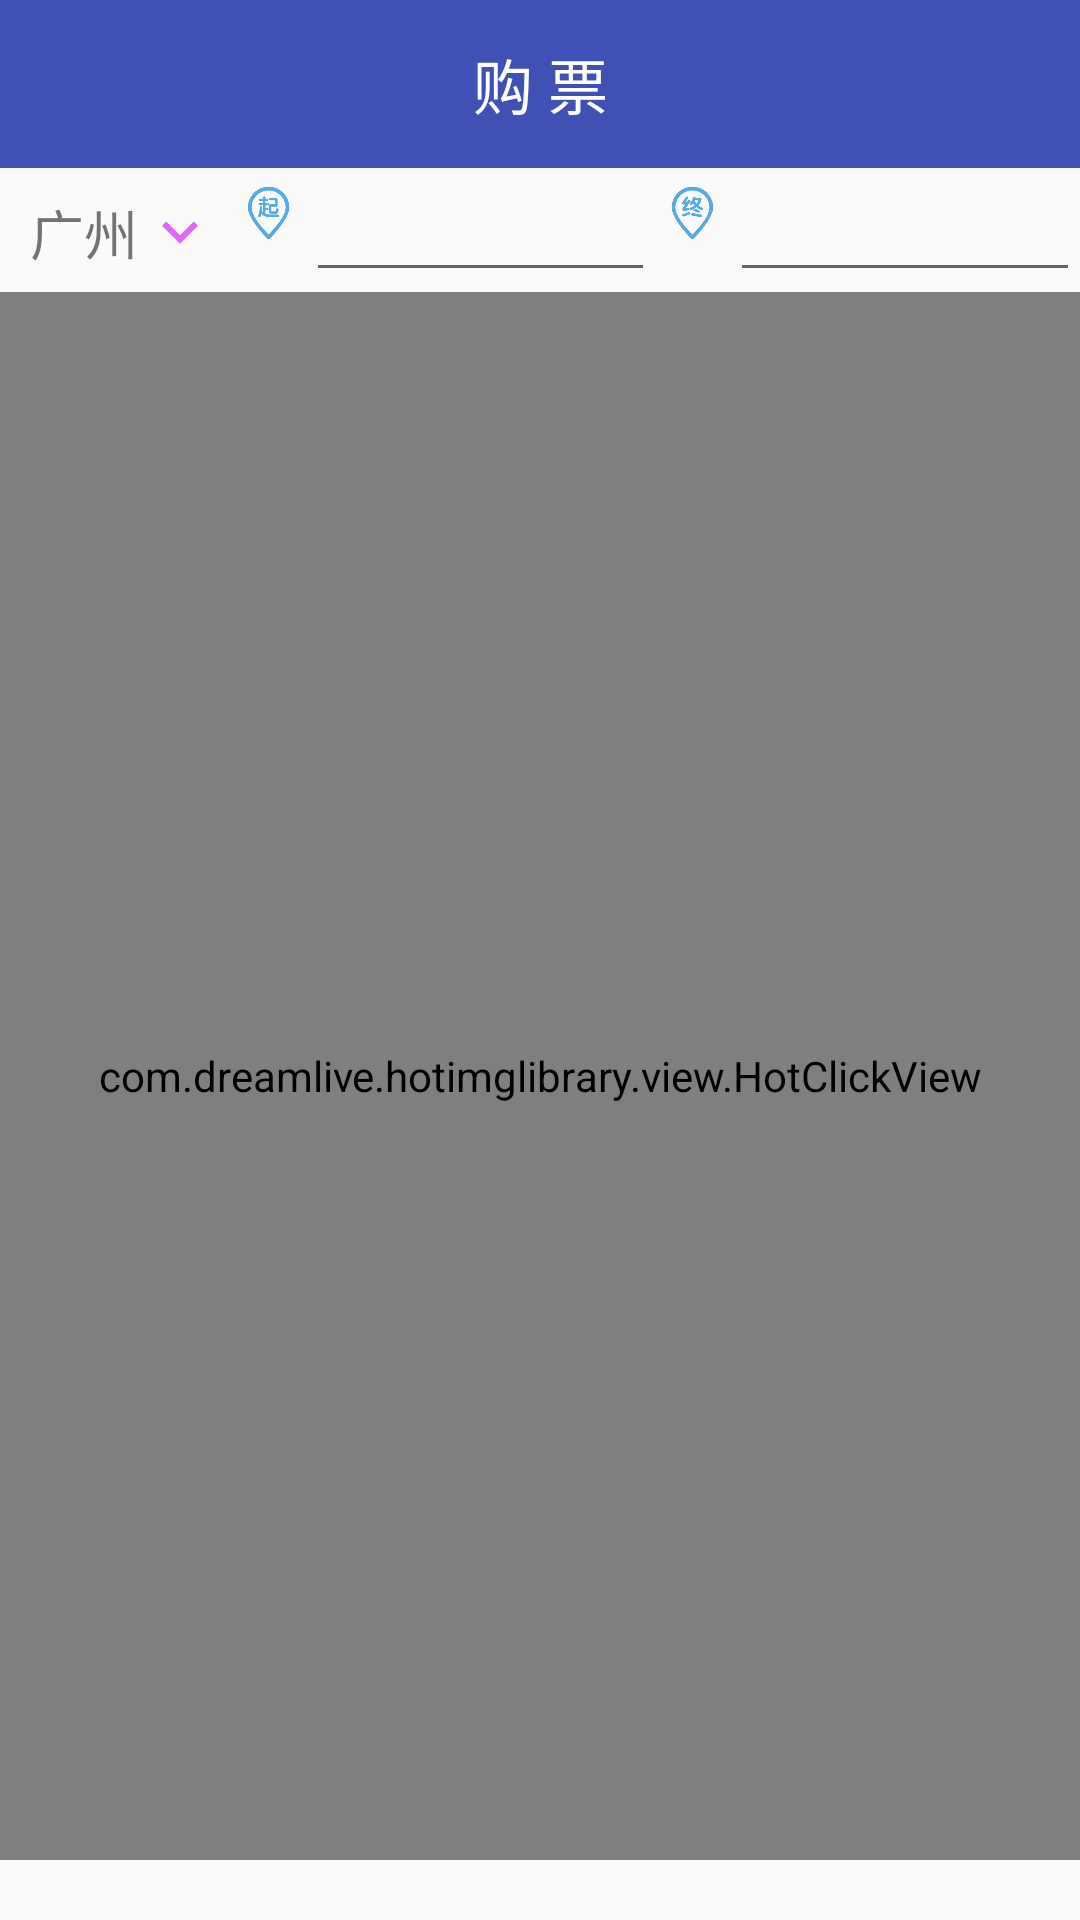

Named icons in this screenshot (1080px×1920px) and their bounding boxes, [left=x1, top=y1, right=x2, bottom=y2]:
keyboard arrow down: [left=162, top=221, right=198, bottom=244]
